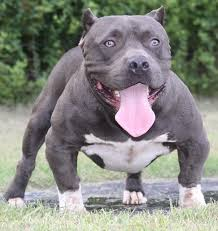Perro Pitbull: (18, 8, 210, 212)
